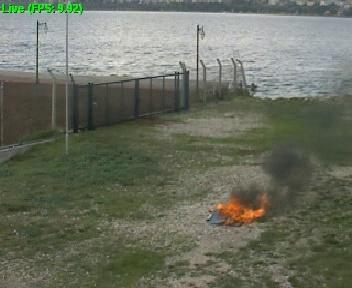fire: (219, 194, 261, 225)
smoke: (266, 121, 317, 198)
